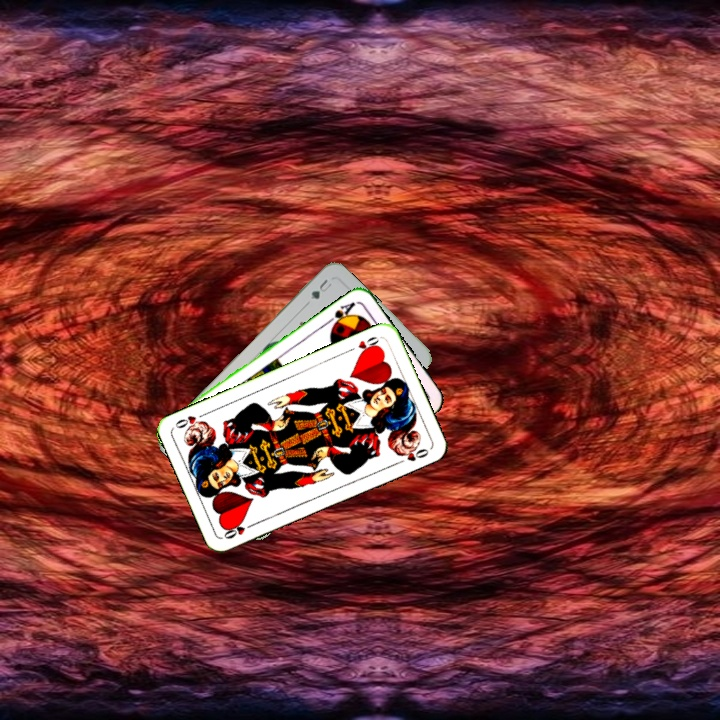GU: (306, 275, 335, 302)
HO: (344, 332, 383, 357), (220, 518, 258, 542)
SA: (324, 298, 360, 330)
